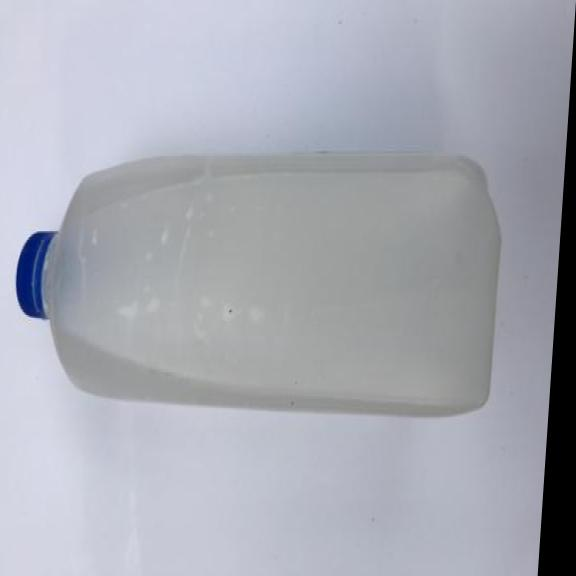Plastik: (7, 134, 514, 421)
